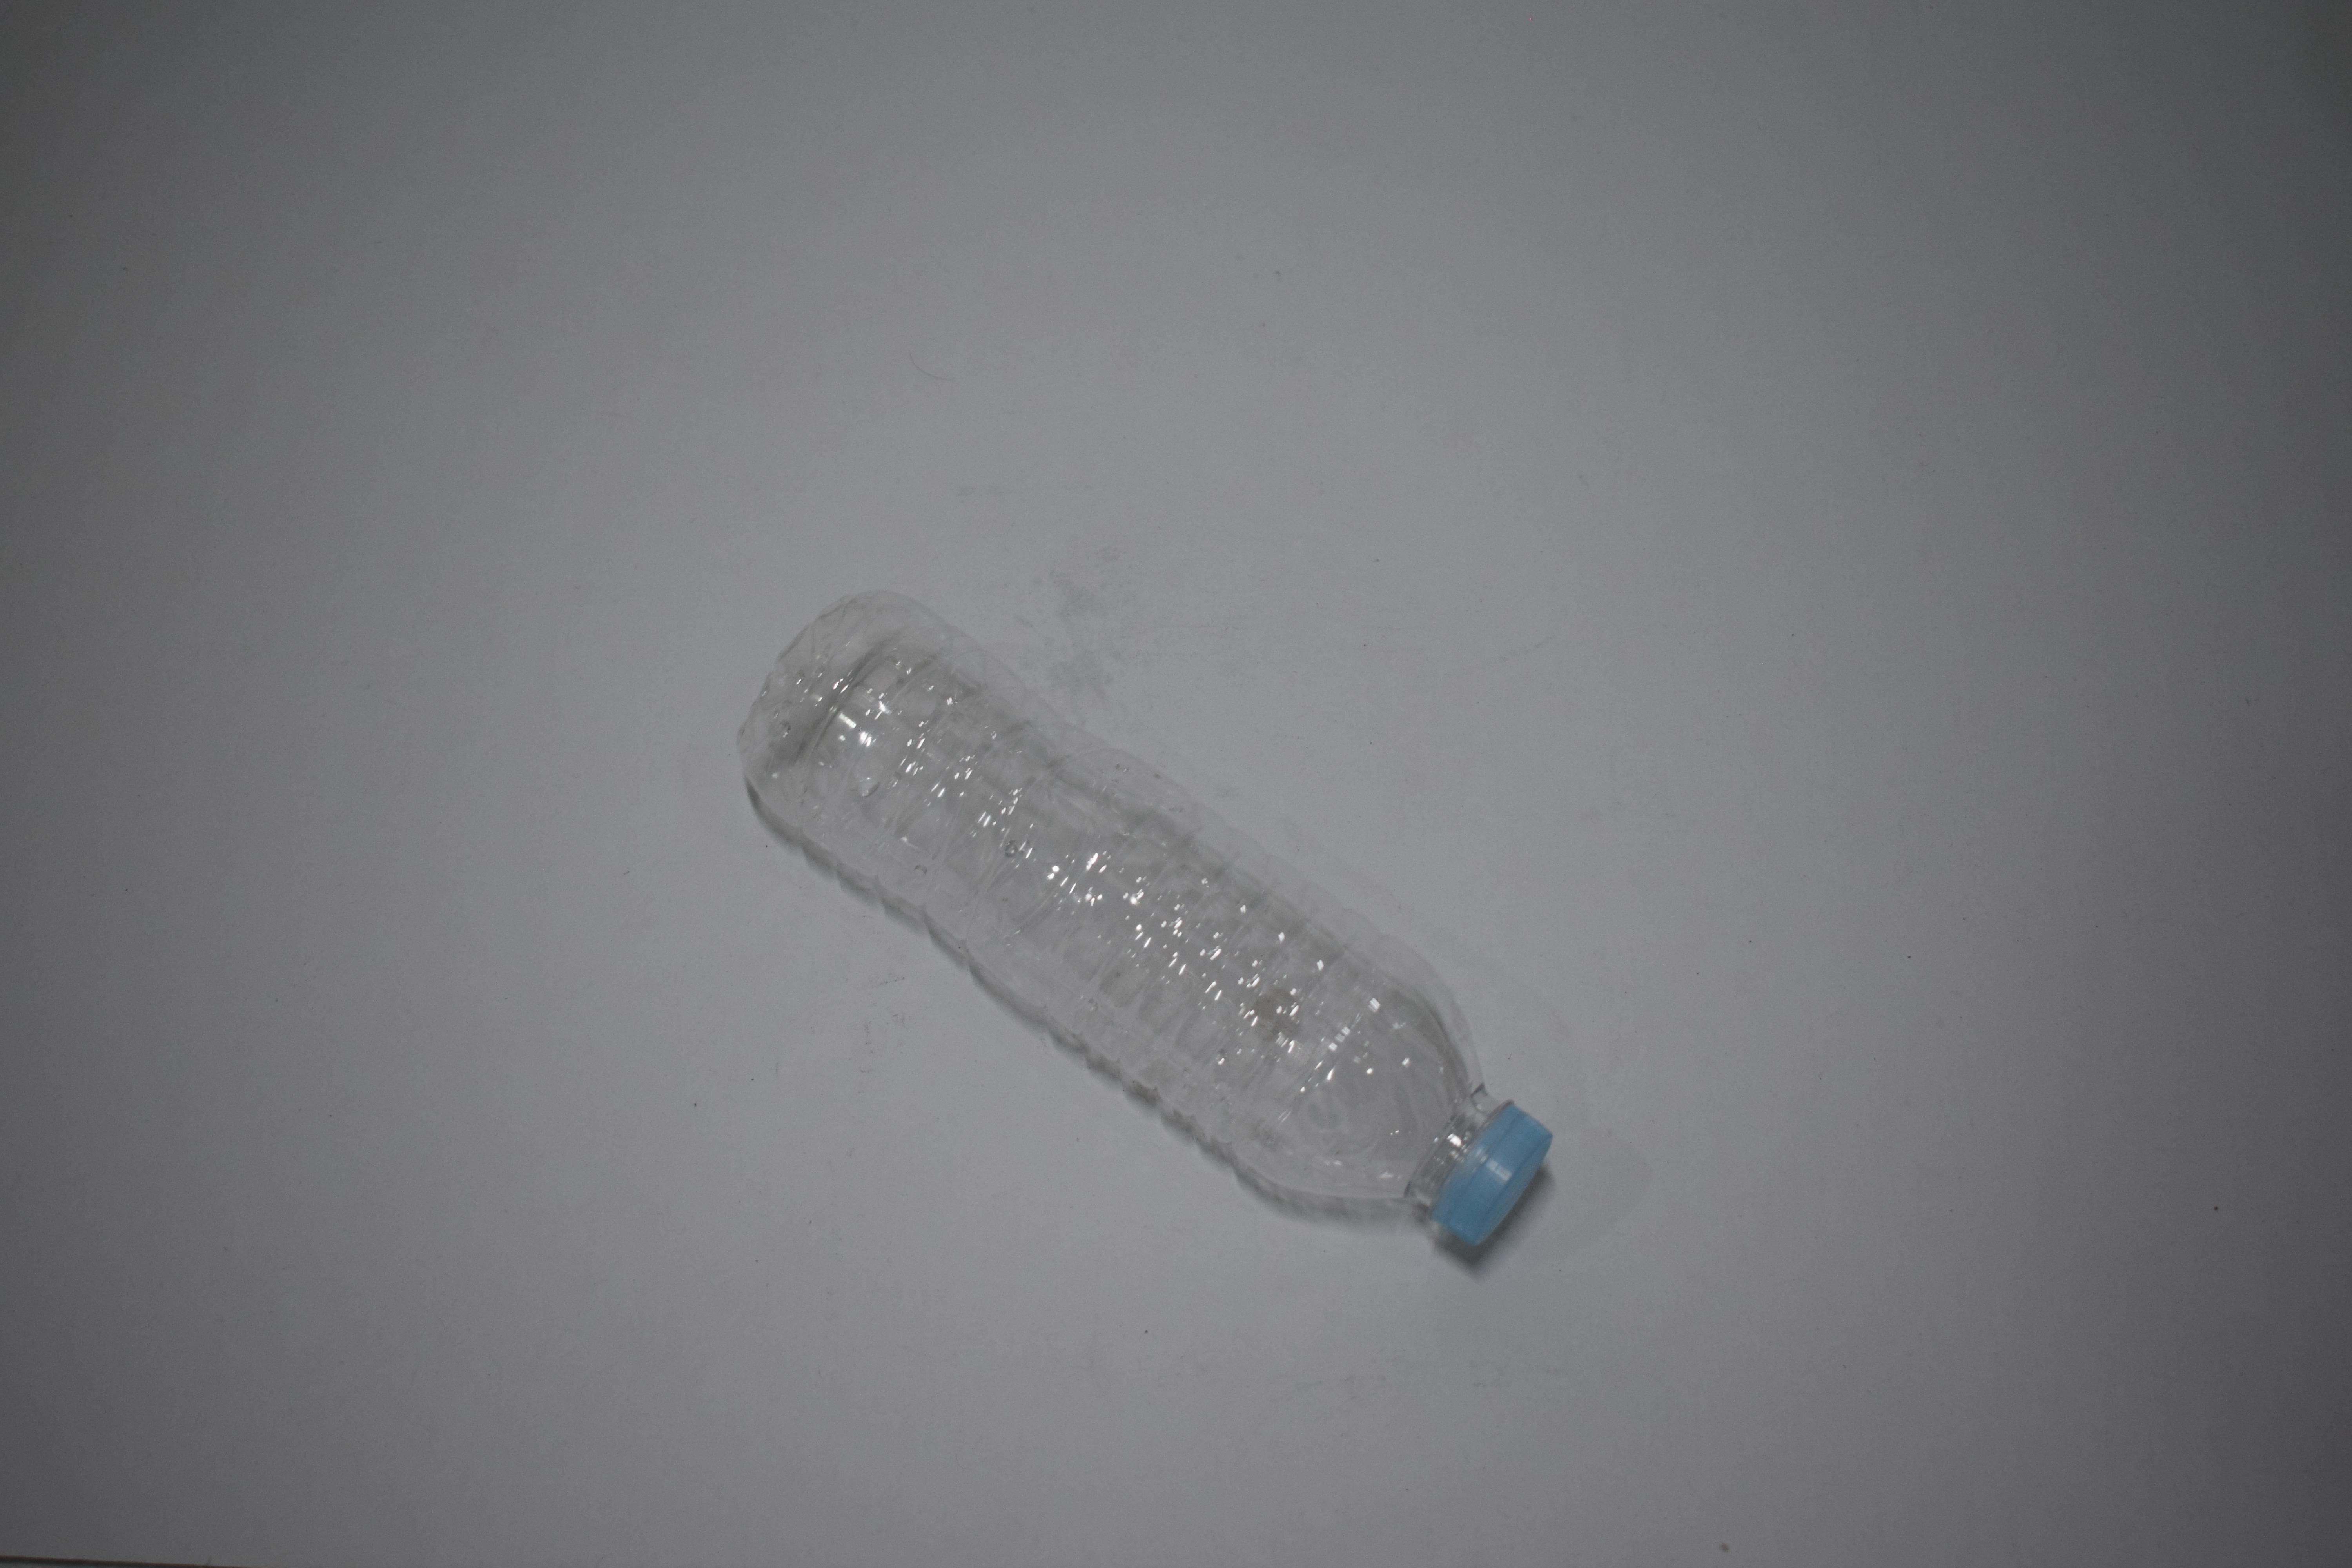bottle: (788, 0, 1502, 481)
